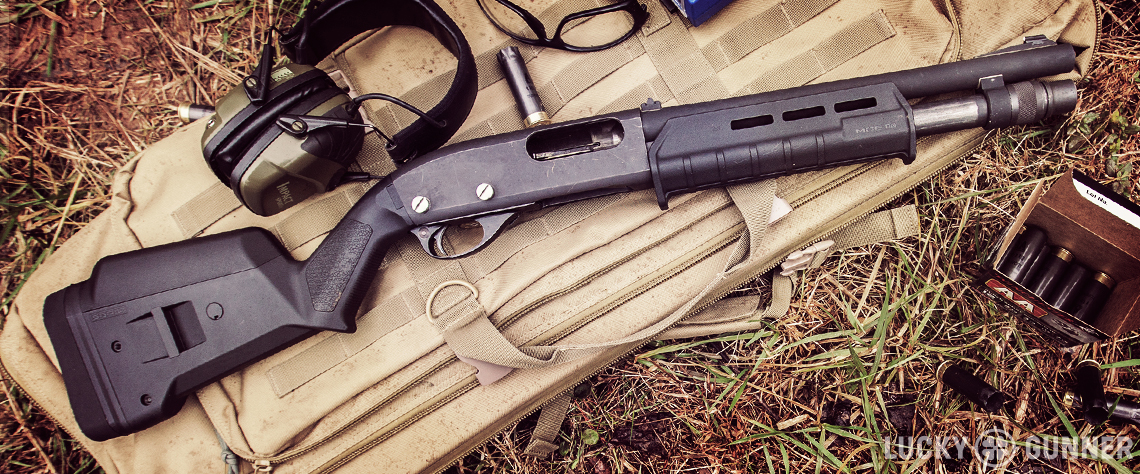Gun: (265, 61, 1106, 266)
